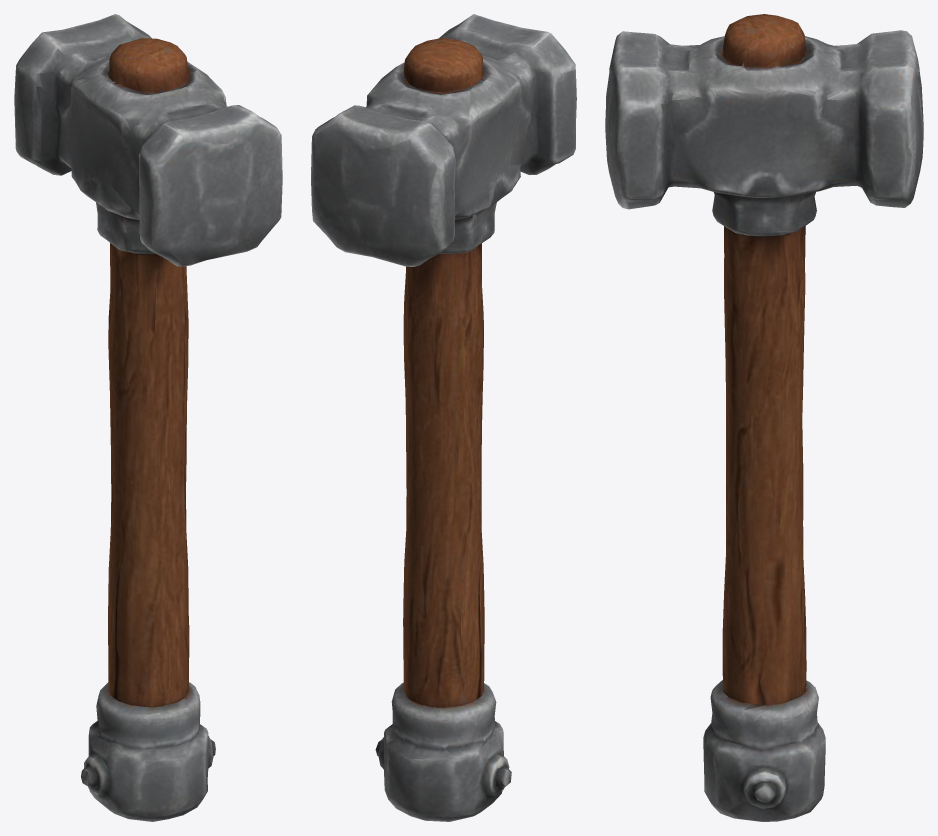
Rendered from tools.glb.
3 renders of one model, left to right at view 1: azimuth 30°, elevation 25°; view 2: azimuth 150°, elevation 25°; view 3: azimuth 270°, elevation 25°, orthographic. The views are drawn at different scales.
Visible parts, largest first — view 1: tools; view 2: tools; view 3: tools.
Part boxes in pixels (box(x1,y1,x2,y2)): tools: box(14, 14, 282, 821); tools: box(311, 14, 576, 821); tools: box(605, 14, 923, 821).
Size of the model in its own units: 0.0644 by 0.35 by 0.1287.
1 material, 1 textured.
